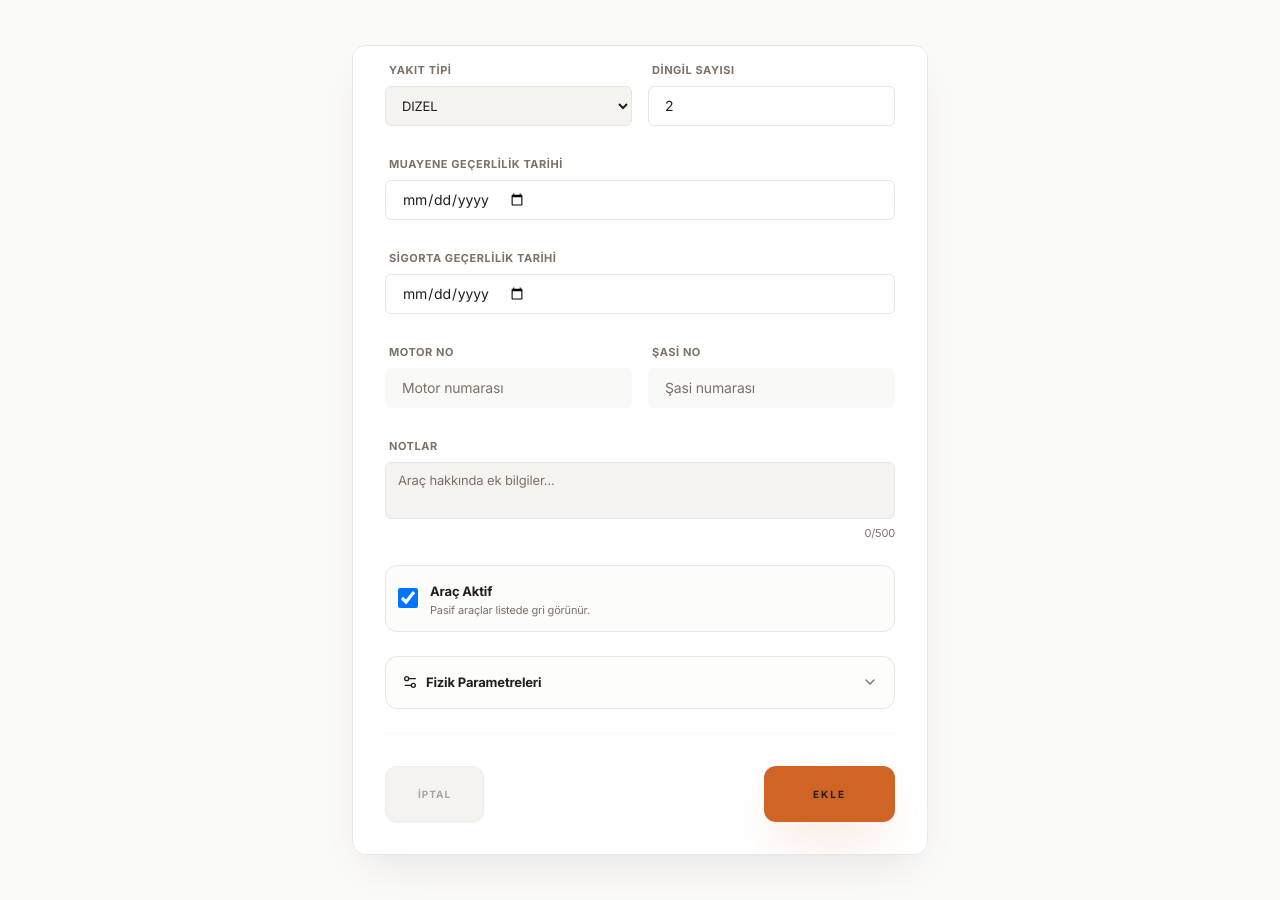
it: VehicleModal › physics accordion toggles advanced fields
(page scrolled)
Check: the text "Boş Ağırlık" is not shown
// Click to expand
Click the button "Fizik Parametreleri" at [484, 682], box [386,656,894,708]
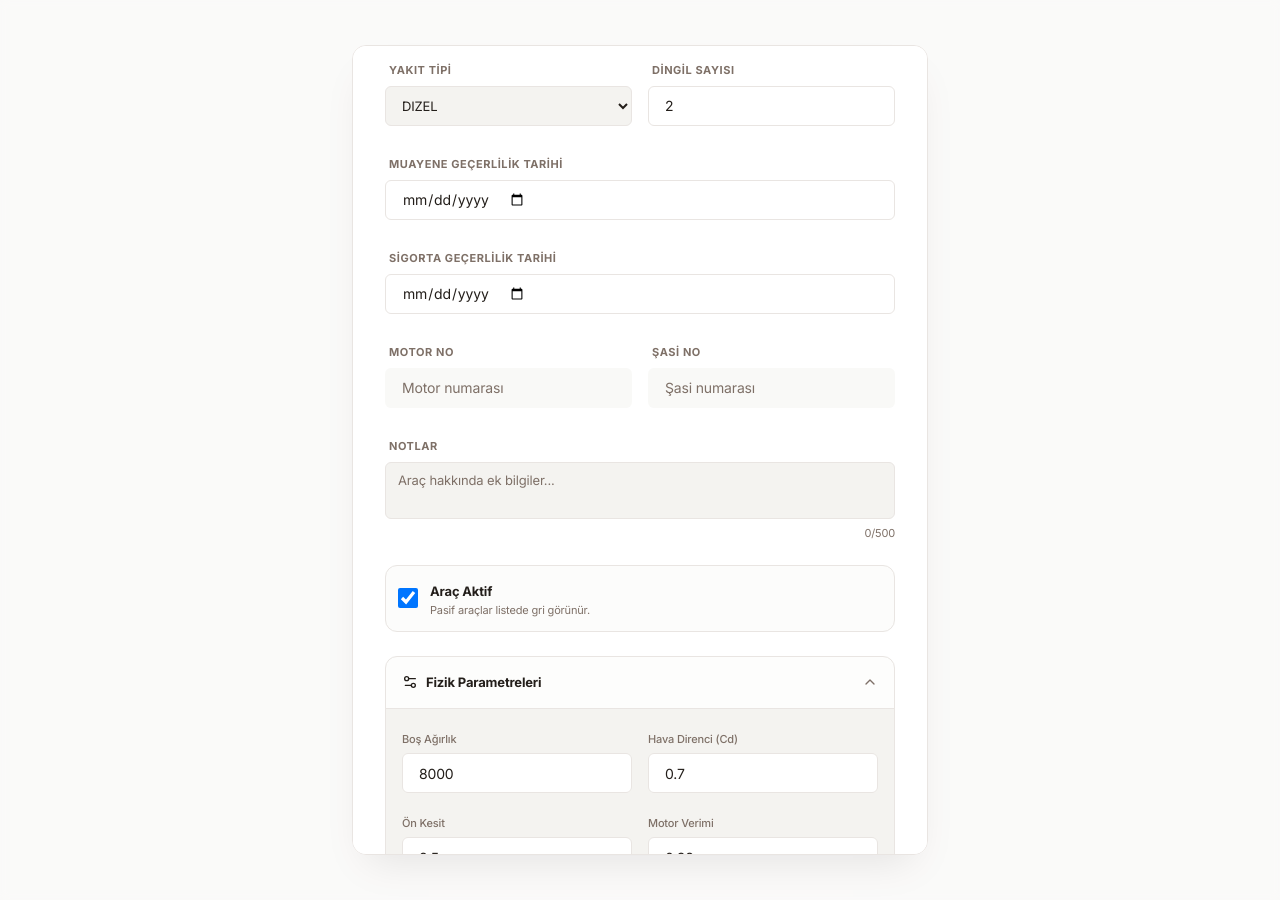
Check: the text "Boş Ağırlık" is shown, box [402,732,456,746]
